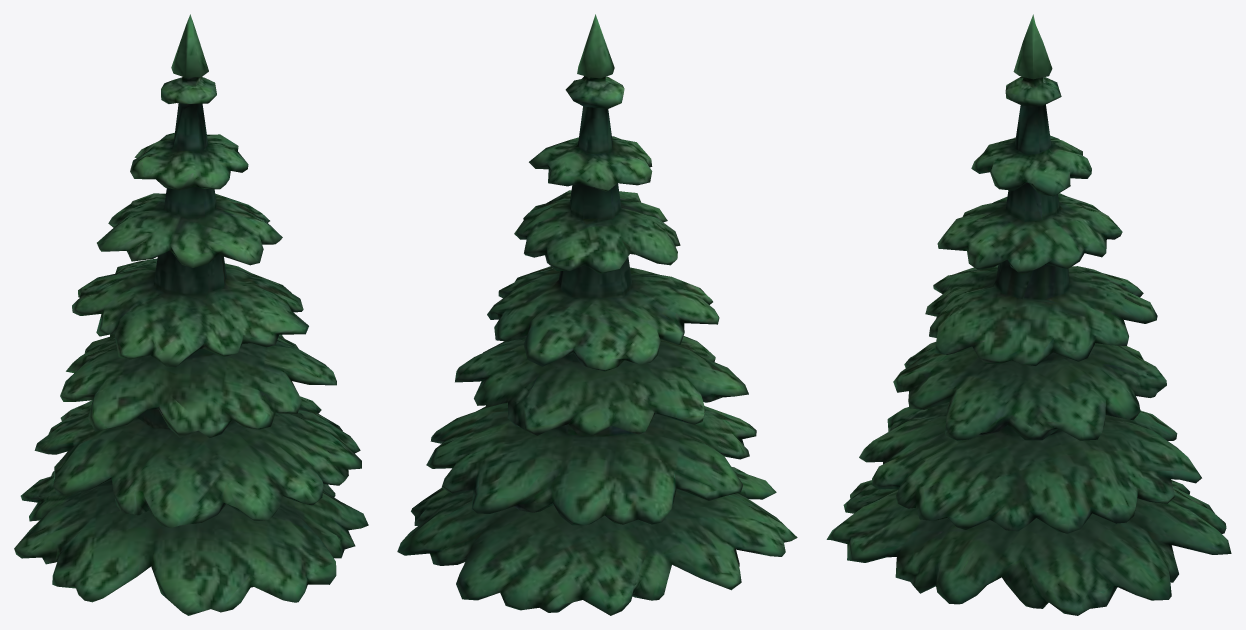
The model's file is pine_a_lod1.glb.
3 views of the same model, side by side, from view 1: azimuth 30°, elevation 25°; view 2: azimuth 150°, elevation 25°; view 3: azimuth 270°, elevation 25° (orthographic).
Parts seen in each view (by area): view 1: pine_a_crown1; view 2: pine_a_crown1; view 3: pine_a_crown1.
Part boxes in pixels (x1,y1,x2,y2): pine_a_crown1: (14,14,368,615); pine_a_crown1: (397,14,797,615); pine_a_crown1: (826,14,1231,615).
Bounding box in the file's own units: 2.87 × 4.74 × 3.08.
2 materials, 2 textured.
